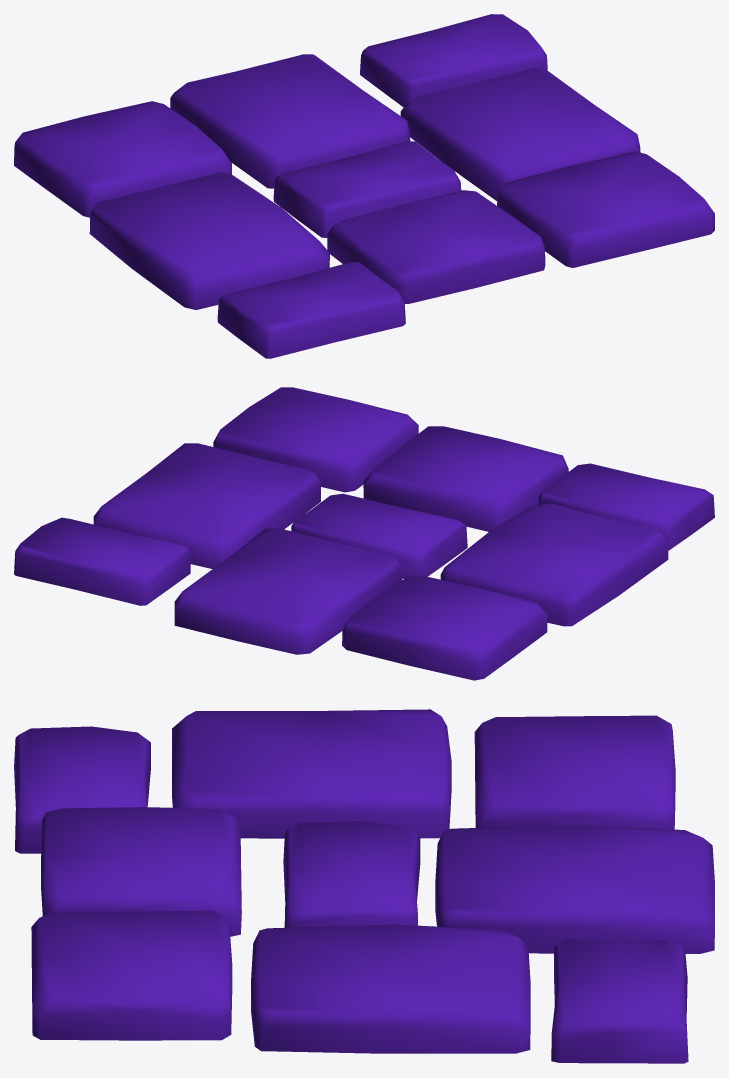
File: flor_stone_01.FBX
3 renders of one model, top to bottom at view 1: azimuth 30°, elevation 25°; view 2: azimuth 150°, elevation 25°; view 3: azimuth 270°, elevation 25°, orthographic. The views are drawn at different scales.
Parts seen in each view (by area): view 1: flor_stone_01; view 2: flor_stone_01; view 3: flor_stone_01.
Part boxes in pixels (bbox=[...]): flor_stone_01: bbox=[14, 14, 714, 358]; flor_stone_01: bbox=[14, 387, 714, 680]; flor_stone_01: bbox=[14, 709, 714, 1063].
Size of the model in its own units: 44.63 by 3.34 by 41.38.
